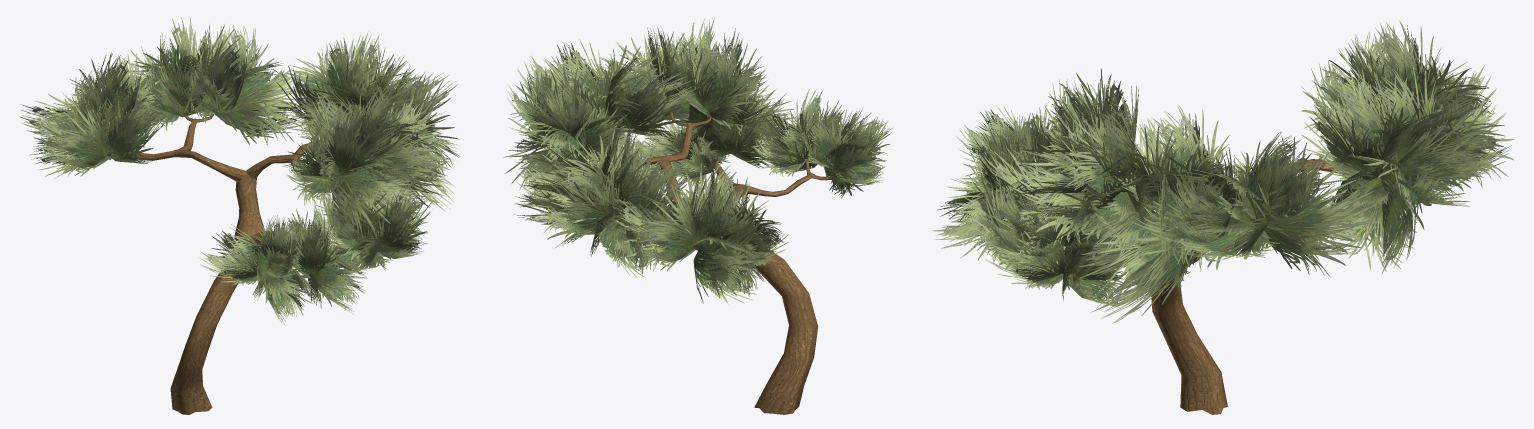
Rendered from bonsai.glb.
3 renders of one model, left to right at view 1: azimuth 30°, elevation 25°; view 2: azimuth 150°, elevation 25°; view 3: azimuth 270°, elevation 25°, orthographic. The views are drawn at different scales.
Visible parts, largest first — view 1: node_id35, node_id33; view 2: node_id35, node_id33; view 3: node_id35, node_id33.
Part boxes in pixels (x1,y1,x2,y2): node_id35: (19, 17, 460, 324); node_id33: (110, 110, 342, 414); node_id35: (503, 18, 893, 304); node_id33: (603, 111, 833, 414); node_id35: (931, 20, 1514, 323); node_id33: (1066, 159, 1351, 414).
Bounding box in the file's own units: 0.512 × 0.4476 × 0.6048.
Materials: 2 (2 with a texture image).
